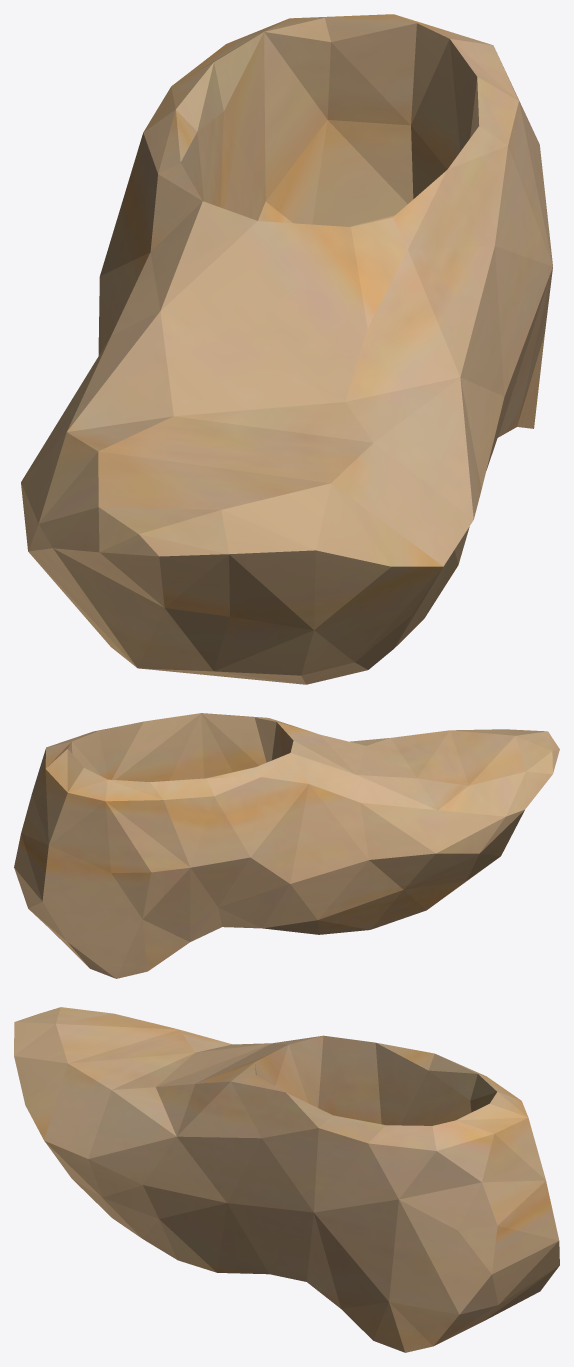
The model's file is shoes1.dae.
3 renders of one model, top to bottom at view 1: azimuth 30°, elevation 25°; view 2: azimuth 150°, elevation 25°; view 3: azimuth 270°, elevation 25°, orthographic. The views are drawn at different scales.
Parts seen in each view (by area): view 1: node; view 2: node; view 3: node.
Part boxes in pixels (x1,y1,x2,y2): node: (21,14,552,684); node: (14,713,559,978); node: (14,1007,559,1352).
Bounding box in the file's own units: 0.2451 × 0.1185 × 0.2766.
1 material, 1 textured.
